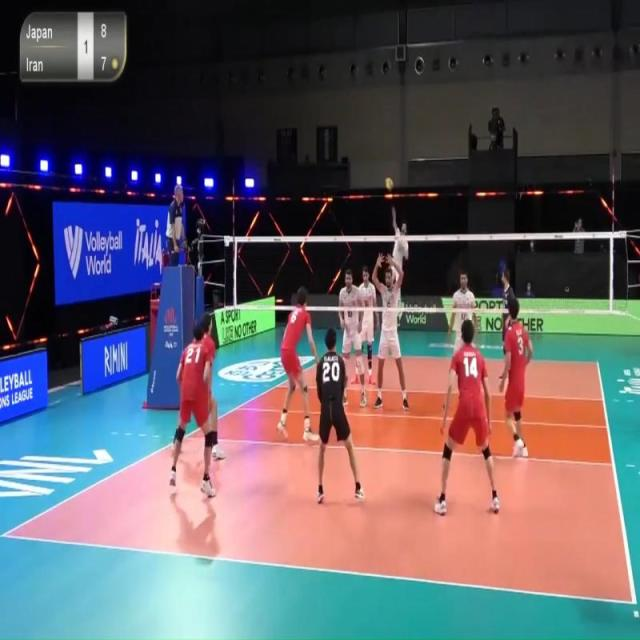volleyball: (386, 177, 394, 190)
